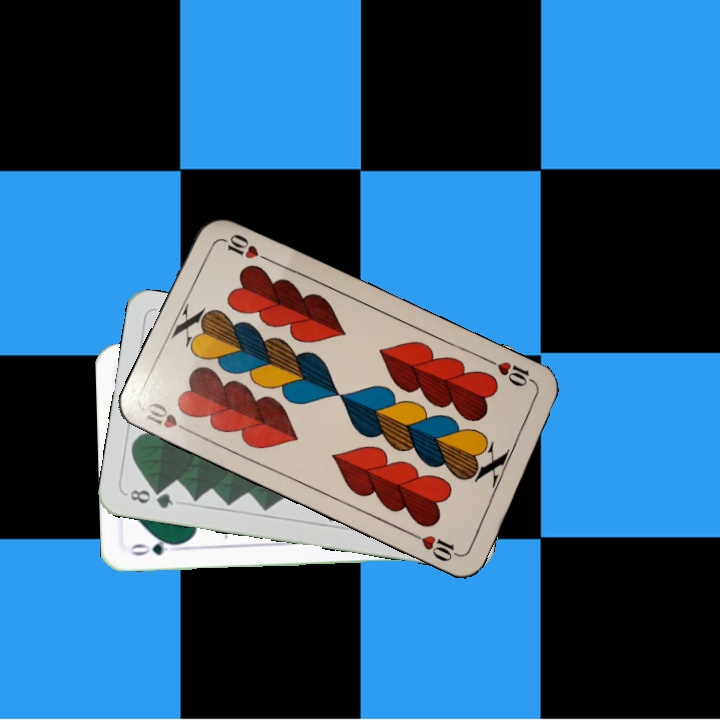G8: (122, 485, 176, 512)
GO: (125, 535, 184, 558)
H10: (139, 397, 196, 437), (484, 355, 539, 389)
